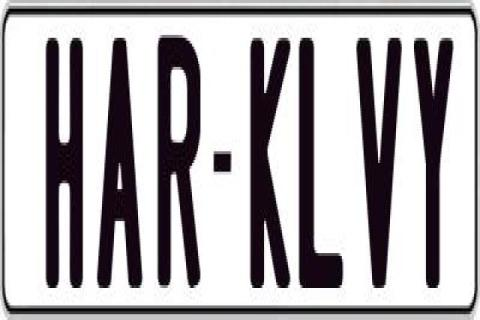A: (94, 35, 138, 297)
H: (46, 35, 90, 285)
K: (251, 29, 293, 282)
L: (296, 29, 344, 291)
R: (158, 27, 200, 286)
V: (352, 35, 406, 299)
Y: (412, 32, 452, 291)
